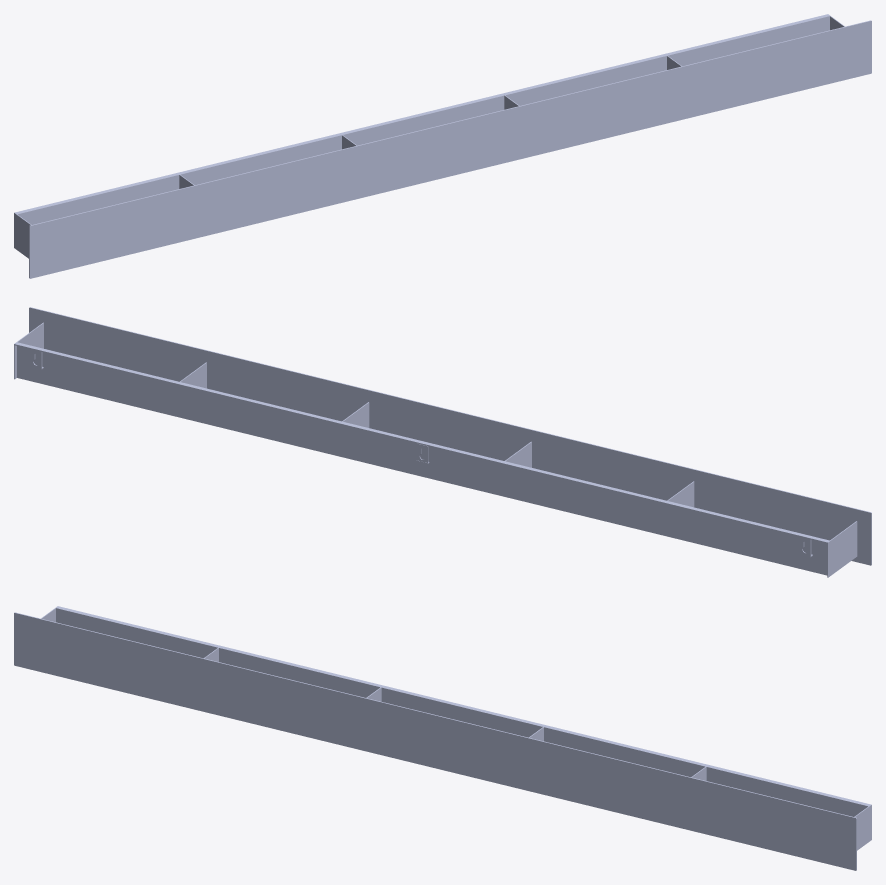
Rendered from skyline-mono.0ef6570de6.glb.
3 renders of one model, top to bottom at view 1: azimuth 30°, elevation 25°; view 2: azimuth 150°, elevation 25°; view 3: azimuth 330°, elevation 25°, orthographic.
Parts seen in each view (by area): view 1: NAUO1; view 2: NAUO1; view 3: NAUO1.
Part boxes in pixels (box(x1,y1,x2,y2)): NAUO1: box(14, 14, 871, 278); NAUO1: box(14, 307, 871, 577); NAUO1: box(14, 606, 871, 870).
Size of the model in its own units: 1.5 by 0.0899 by 0.093.
